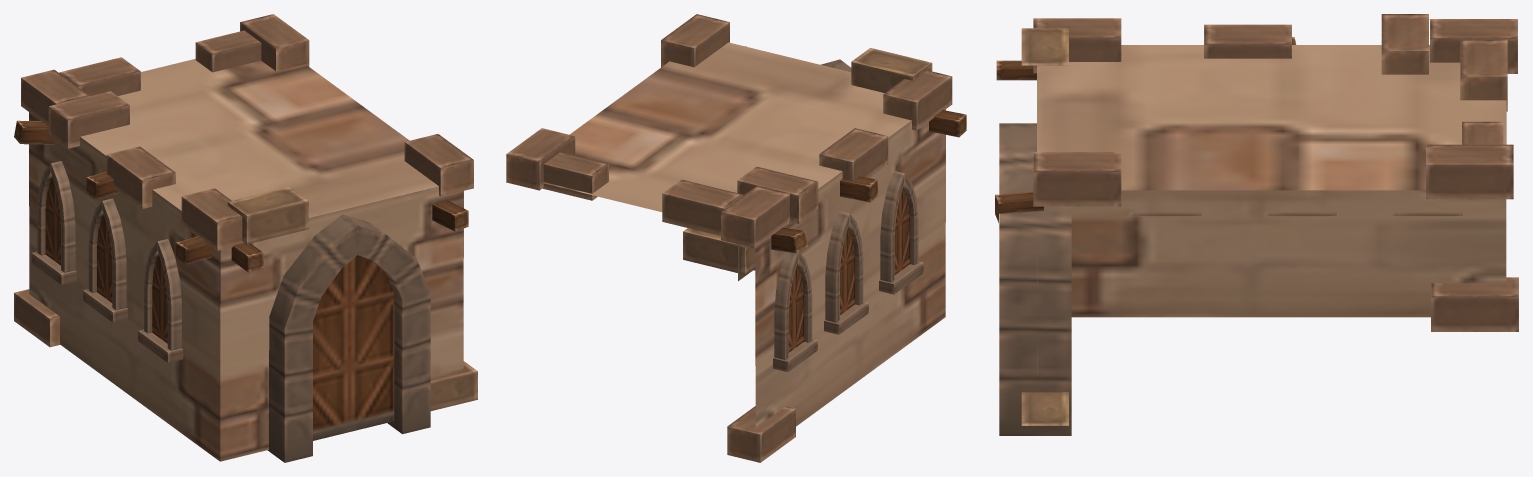
The model's file is mine_prop_2_3.FBX.
The picture shows the model from 3 angles, left to right: view 1: azimuth 30°, elevation 25°; view 2: azimuth 150°, elevation 25°; view 3: azimuth 270°, elevation 25°; orthographic projection. The views are drawn at different scales.
Parts seen in each view (by area): view 1: mine_prop_2_3; view 2: mine_prop_2_3; view 3: mine_prop_2_3.
Boxes of the visible parts, x1,y1,x2,y2 form: mine_prop_2_3: (14, 14, 477, 462); mine_prop_2_3: (506, 14, 966, 462); mine_prop_2_3: (995, 14, 1518, 435).
Size of the model in its own units: 74.87 by 62.54 by 97.96.
